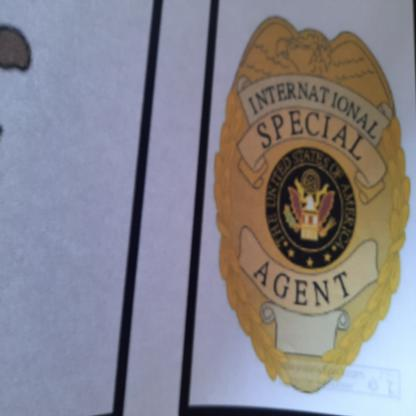G-man: (209, 8, 416, 402)
